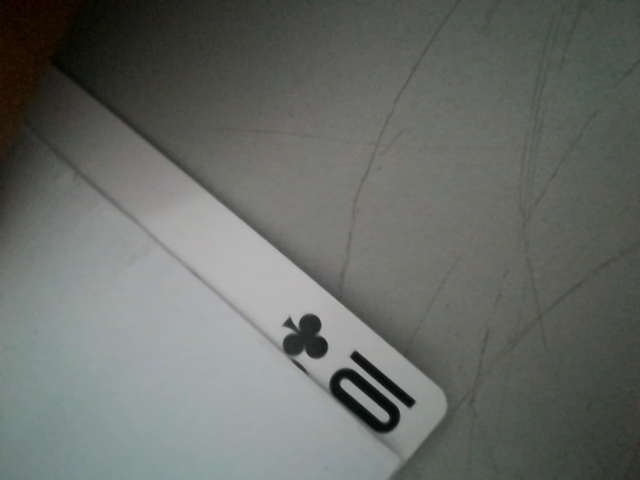mh 10: (257, 300, 433, 449)
